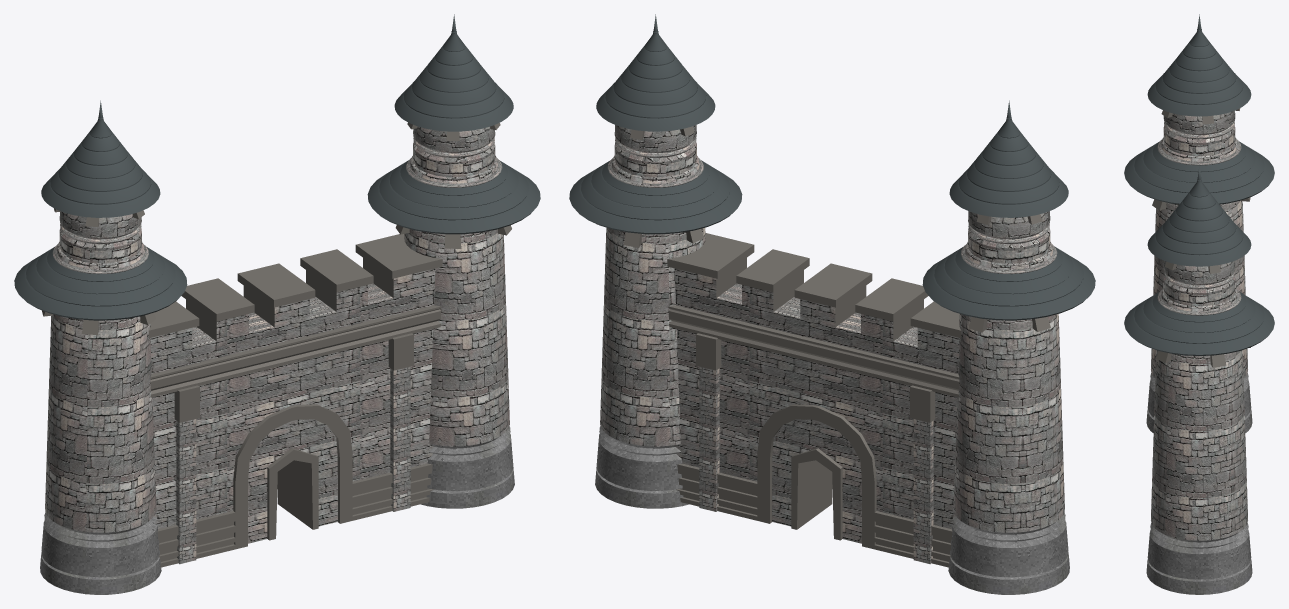
Rendered from keepgate.glb.
3 renders of one model, left to right at view 1: azimuth 30°, elevation 25°; view 2: azimuth 150°, elevation 25°; view 3: azimuth 270°, elevation 25°, orthographic. The views are drawn at different scales.
Parts seen in each view (by area): view 1: Tower, Wall, Roof, Design, Door, Angle; view 2: Tower, Wall, Roof, Design, Door, Angle; view 3: Tower, Roof, Angle.
Boxes of the visible parts, x1,y1,x2,y2 form: Tower: [40, 126, 514, 594]; Wall: [148, 234, 442, 543]; Roof: [14, 14, 540, 320]; Design: [150, 305, 441, 567]; Door: [267, 448, 318, 540]; Angle: [42, 122, 511, 335]; Tower: [595, 125, 1069, 594]; Wall: [667, 233, 961, 543]; Roof: [569, 14, 1095, 320]; Design: [668, 305, 959, 567]; Door: [791, 448, 842, 540]; Angle: [623, 126, 1050, 332]; Tower: [1146, 110, 1252, 594]; Roof: [1124, 14, 1274, 355]; Angle: [1152, 108, 1250, 367].
Size of the model in its own units: 12.01 by 10.7 by 3.58.
4 materials, 2 textured.
